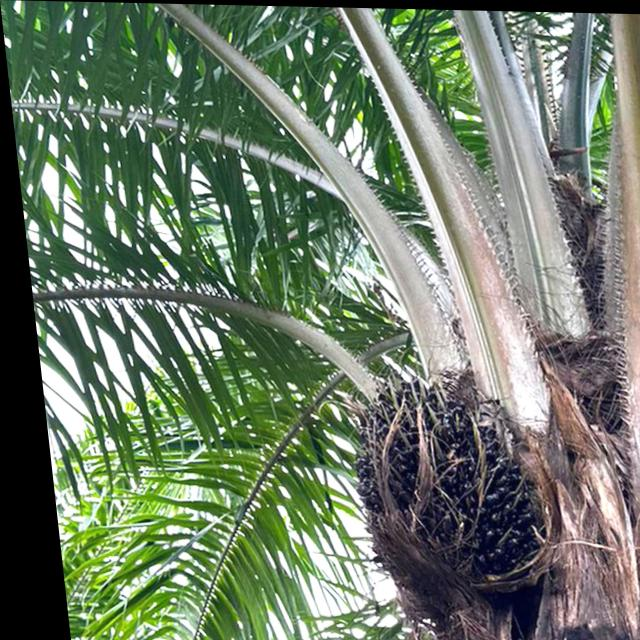unripe: (332, 365, 547, 602)
